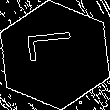L_E: (26, 37, 84, 73)
